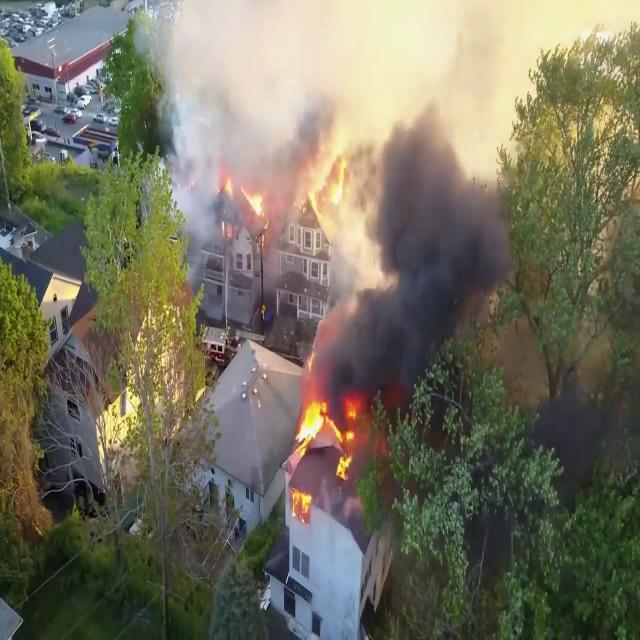Fire: (293, 388, 362, 473), (220, 165, 267, 219), (288, 484, 310, 522)
Smoke: (300, 0, 570, 398)
